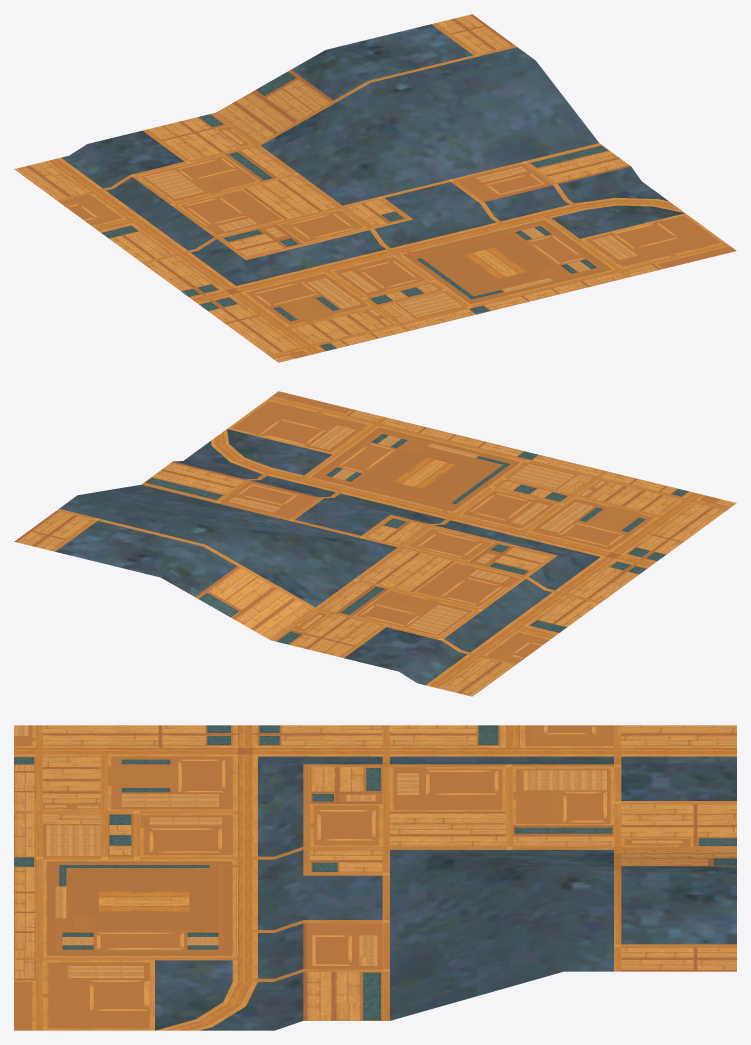
3 views of the same model, one above another, from view 1: azimuth 30°, elevation 25°; view 2: azimuth 150°, elevation 25°; view 3: azimuth 270°, elevation 25° (orthographic). The views are drawn at different scales.
Parts seen in each view (by area): view 1: Joint_0_Object_0, Joint_0_Object_1, Joint_0_Object_2; view 2: Joint_0_Object_0, Joint_0_Object_1, Joint_0_Object_2; view 3: Joint_0_Object_0, Joint_0_Object_1, Joint_0_Object_2.
Boxes of the visible parts, x1,y1,x2,y2 form: Joint_0_Object_0: [14, 14, 736, 362]; Joint_0_Object_1: [61, 24, 684, 285]; Joint_0_Object_2: [101, 71, 607, 350]; Joint_0_Object_0: [14, 391, 736, 696]; Joint_0_Object_1: [55, 429, 599, 685]; Joint_0_Object_2: [146, 434, 688, 644]; Joint_0_Object_0: [14, 725, 736, 1030]; Joint_0_Object_1: [155, 756, 736, 1030]; Joint_0_Object_2: [14, 725, 736, 1020].
Bounding box in the file's own units: 10000 × 912 × 10000.
